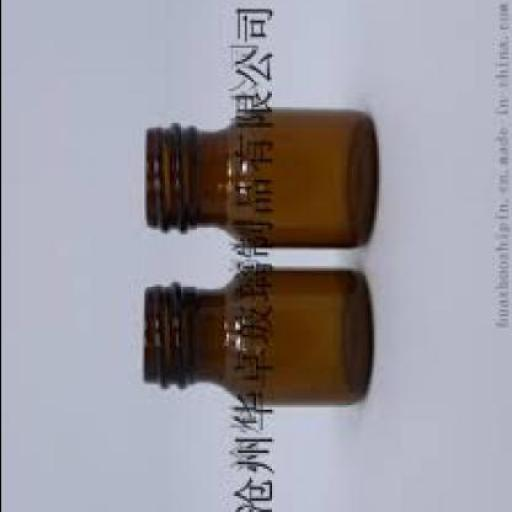glass: (139, 271, 371, 410), (141, 114, 373, 250)
